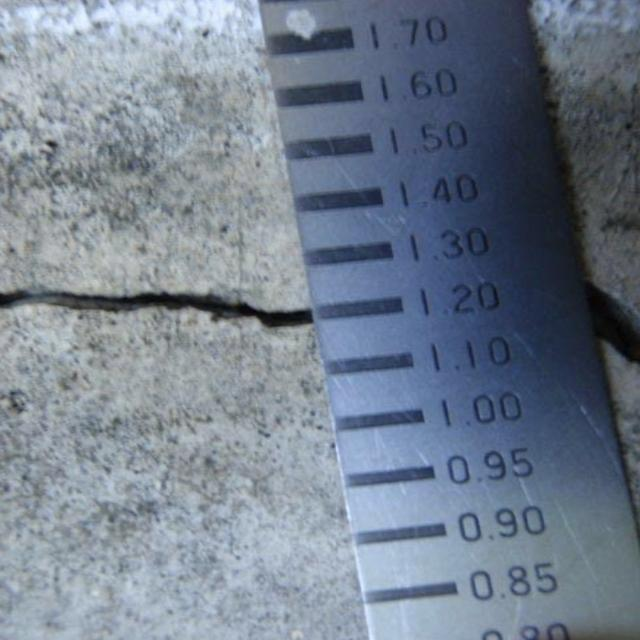crack: (9, 267, 320, 347), (587, 251, 640, 370)
